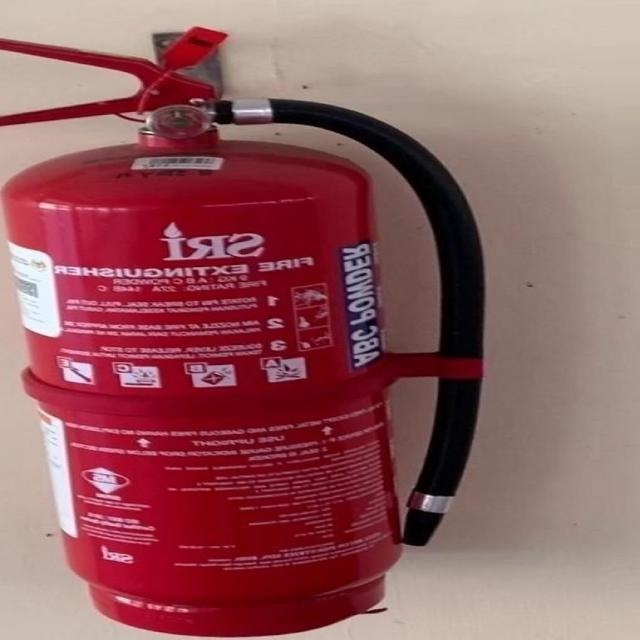fire_extinguisher: (0, 18, 494, 639)
